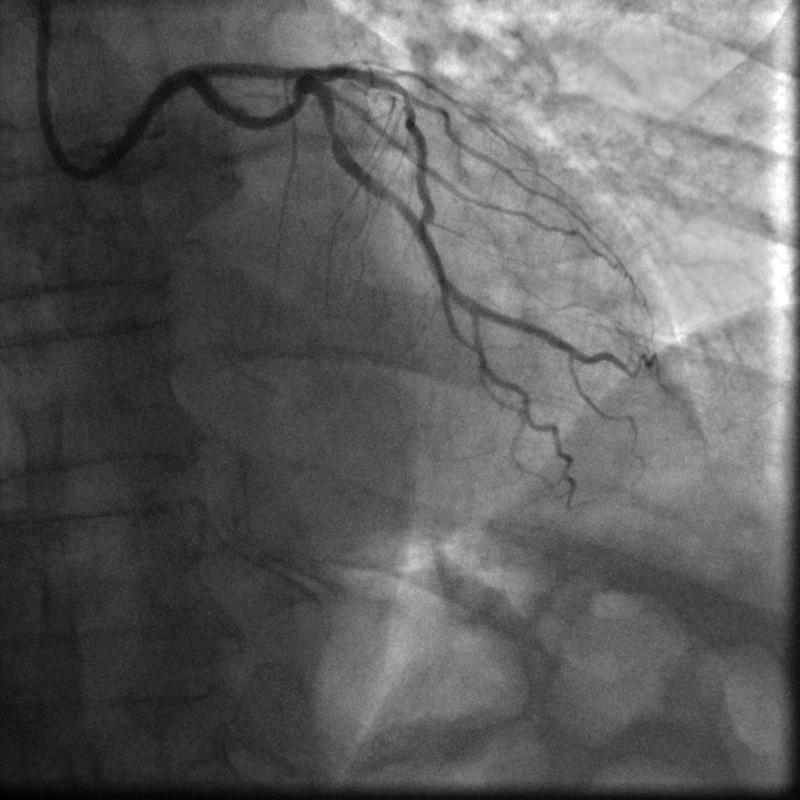Stenosis: (325, 120, 341, 139)
